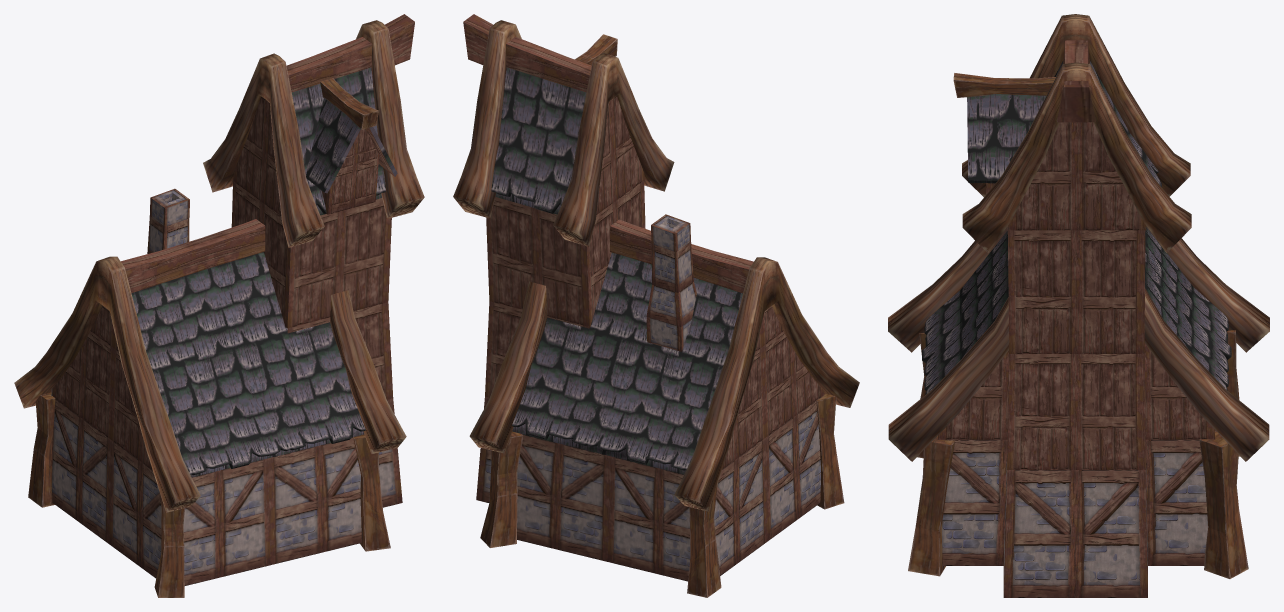
Rendered from house06.fbx.
3 renders of one model, left to right at view 1: azimuth 30°, elevation 25°; view 2: azimuth 150°, elevation 25°; view 3: azimuth 270°, elevation 25°, orthographic. The views are drawn at different scales.
Visible parts, largest first — view 1: house06; view 2: house06; view 3: house06.
Part boxes in pixels (x1,y1,x2,y2): house06: [14, 14, 424, 597]; house06: [453, 14, 859, 597]; house06: [888, 14, 1269, 597].
Bounding box in the file's own units: 432 × 603 × 387.
